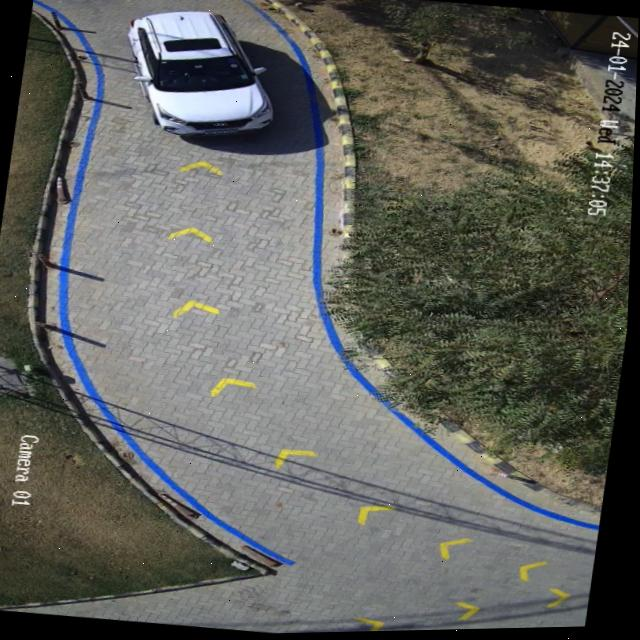car: (127, 11, 272, 137)
